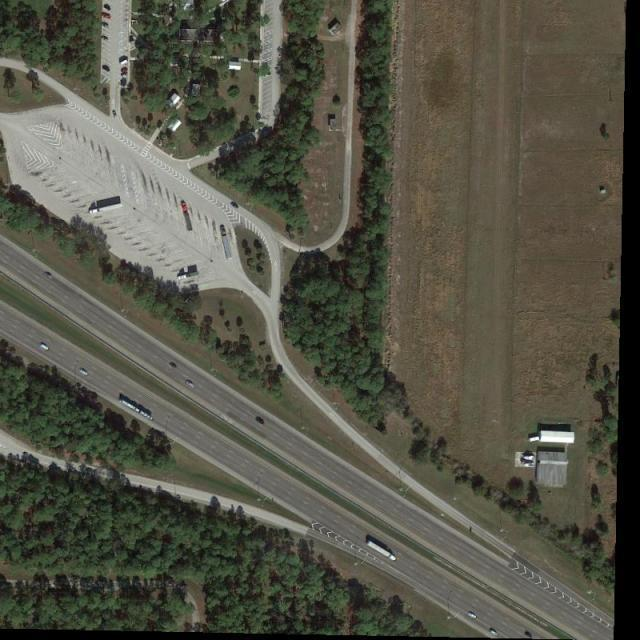vehicle: (365, 539, 398, 562), (89, 202, 124, 216), (221, 225, 234, 260), (180, 202, 194, 231), (119, 399, 141, 414), (178, 271, 200, 281), (139, 410, 154, 422), (467, 611, 478, 621), (489, 629, 499, 638), (255, 416, 265, 425), (230, 201, 240, 210), (78, 368, 89, 376), (186, 380, 195, 389), (40, 343, 50, 351), (524, 630, 534, 638), (100, 22, 110, 30), (45, 271, 54, 279), (262, 71, 271, 79), (119, 59, 129, 66), (104, 4, 112, 12), (169, 362, 177, 369), (102, 12, 110, 19), (112, 110, 117, 120), (102, 66, 110, 72), (121, 67, 128, 73), (102, 36, 108, 42), (122, 73, 128, 78)
